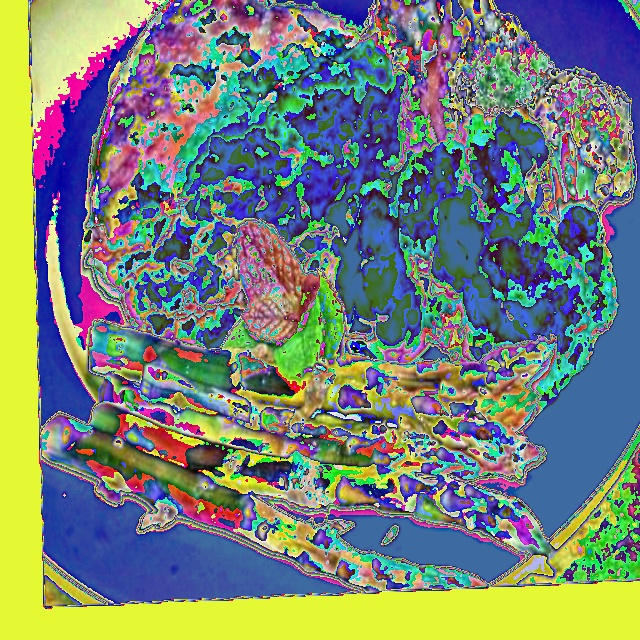background: (40, 0, 636, 592)
